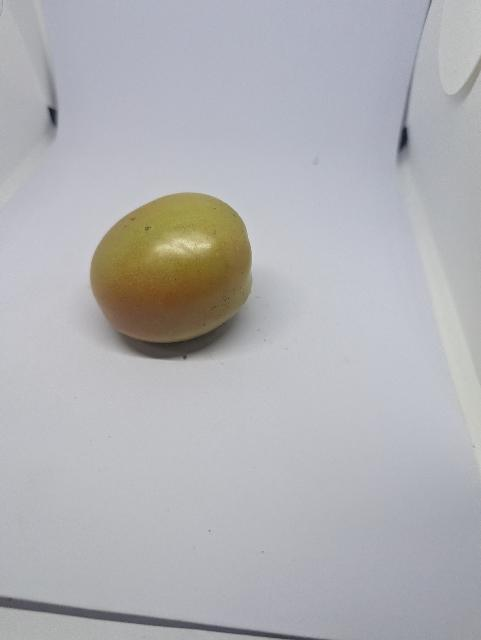breaker: (89, 184, 257, 346)
